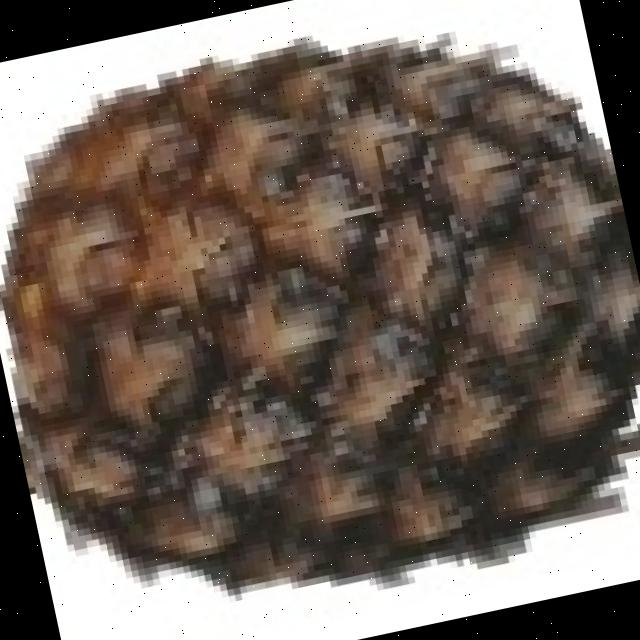pineapple: (0, 38, 640, 592)
